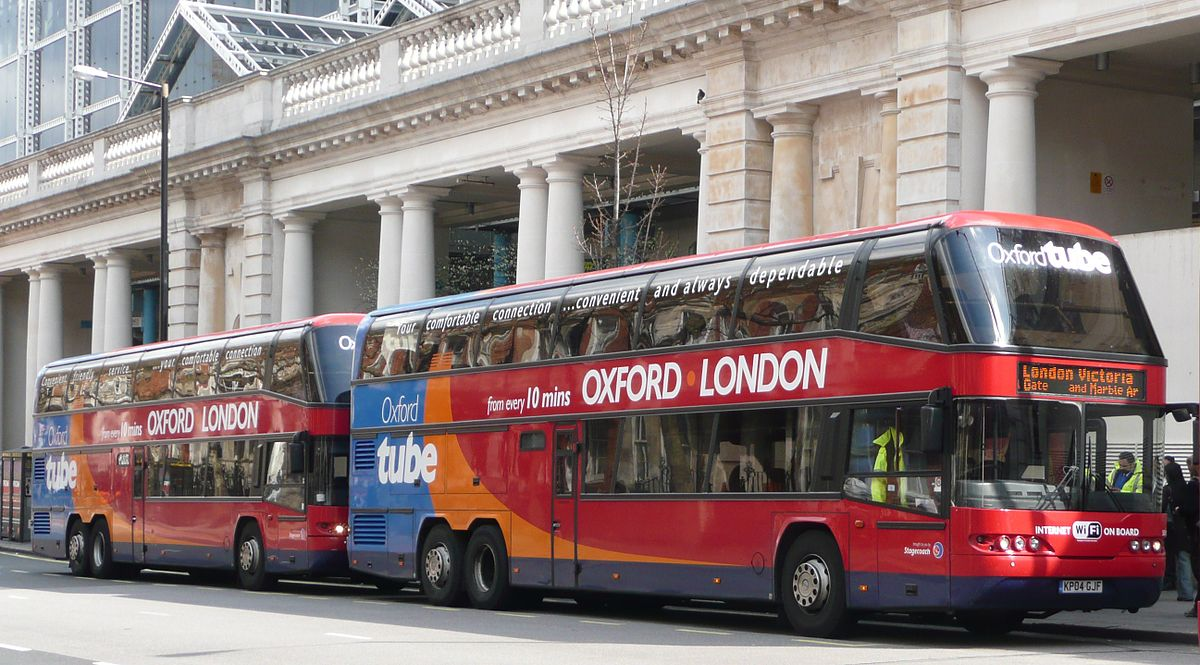bus: (334, 211, 1173, 653), (25, 292, 353, 593)
